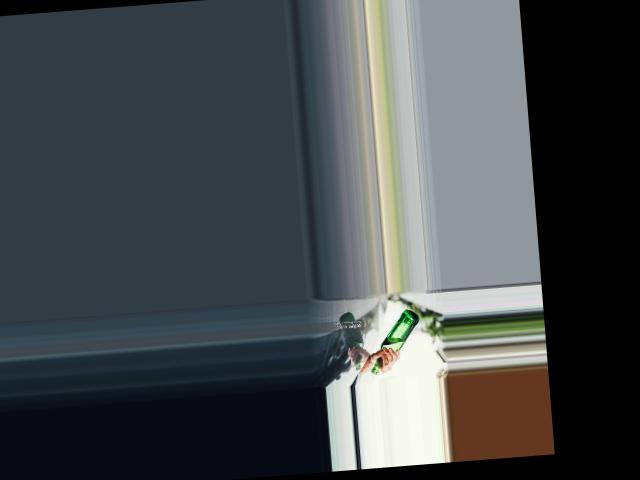beer: (365, 308, 423, 373)
